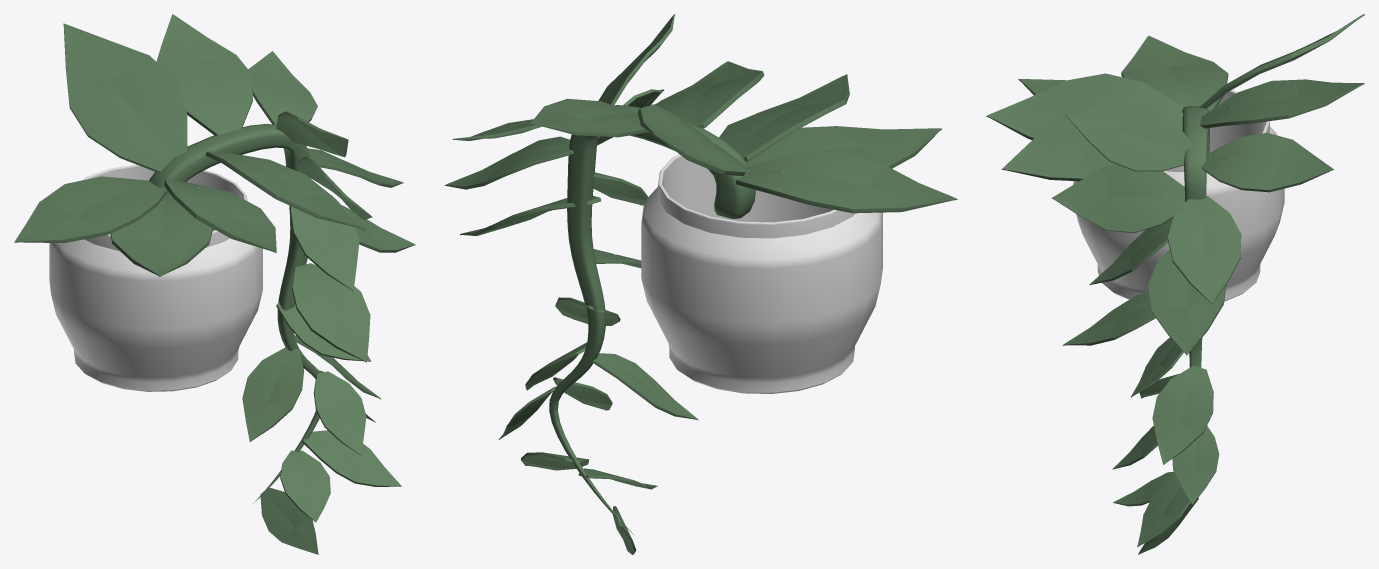
The model's file is plantvase.fbx.
3 renders of one model, left to right at view 1: azimuth 30°, elevation 25°; view 2: azimuth 150°, elevation 25°; view 3: azimuth 270°, elevation 25°, orthographic. The views are drawn at different scales.
Parts seen in each view (by area): view 1: vase, leaf02, leaf04, leaf11, vine, leaf21, leaf01, leaf10, leaf03, leaf15, leaf08, leaf05 (+10 smaller); view 2: vase, vine, leaf11, leaf01, leaf10, leaf03, leaf04, leaf02, leaf09, leaf15, leaf12, leaf08 (+7 smaller); view 3: vase, leaf17, leaf12, leaf09, leaf05, leaf03, leaf04, leaf11, leaf10, leaf13, leaf20, vine (+9 smaller).
Boxes of the visible parts, <box> form: vase: <box>49,164,262,391</box>; leaf02: <box>63,23,187,172</box>; leaf04: <box>156,14,252,135</box>; leaf11: <box>14,176,166,243</box>; vine: <box>149,124,320,503</box>; leaf21: <box>292,263,370,362</box>; leaf01: <box>110,194,212,276</box>; leaf10: <box>164,178,276,252</box>; leaf03: <box>205,151,366,229</box>; leaf15: <box>242,347,303,441</box>; leaf08: <box>290,198,359,291</box>; leaf05: <box>248,51,317,124</box>; vase: <box>641,154,882,393</box>; vine: <box>549,105,755,535</box>; leaf11: <box>735,151,957,213</box>; leaf01: <box>746,126,941,168</box>; leaf10: <box>719,74,849,161</box>; leaf03: <box>655,61,764,128</box>; leaf04: <box>530,98,649,137</box>; leaf02: <box>637,104,748,175</box>; leaf09: <box>444,136,573,189</box>; leaf15: <box>592,353,698,420</box>; leaf12: <box>598,14,674,105</box>; leaf08: <box>593,172,647,205</box>; vase: <box>1073,90,1284,301</box>; leaf17: <box>1051,164,1184,232</box>; leaf12: <box>1066,101,1192,171</box>; leaf09: <box>1167,196,1241,303</box>; leaf05: <box>1201,132,1333,192</box>; leaf03: <box>1001,95,1183,181</box>; leaf04: <box>1199,79,1364,128</box>; leaf11: <box>1121,35,1228,111</box>; leaf10: <box>986,73,1183,139</box>; leaf13: <box>1147,249,1226,355</box>; leaf20: <box>1152,366,1213,464</box>; vine: <box>1182,106,1209,367</box>.
Bounding box in the file's own units: 3.08 × 3.36 × 2.43.
